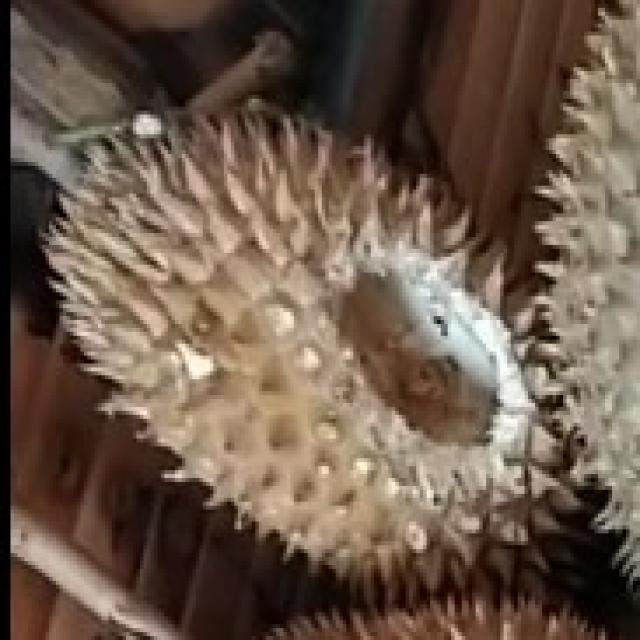defective: (35, 108, 596, 619)
